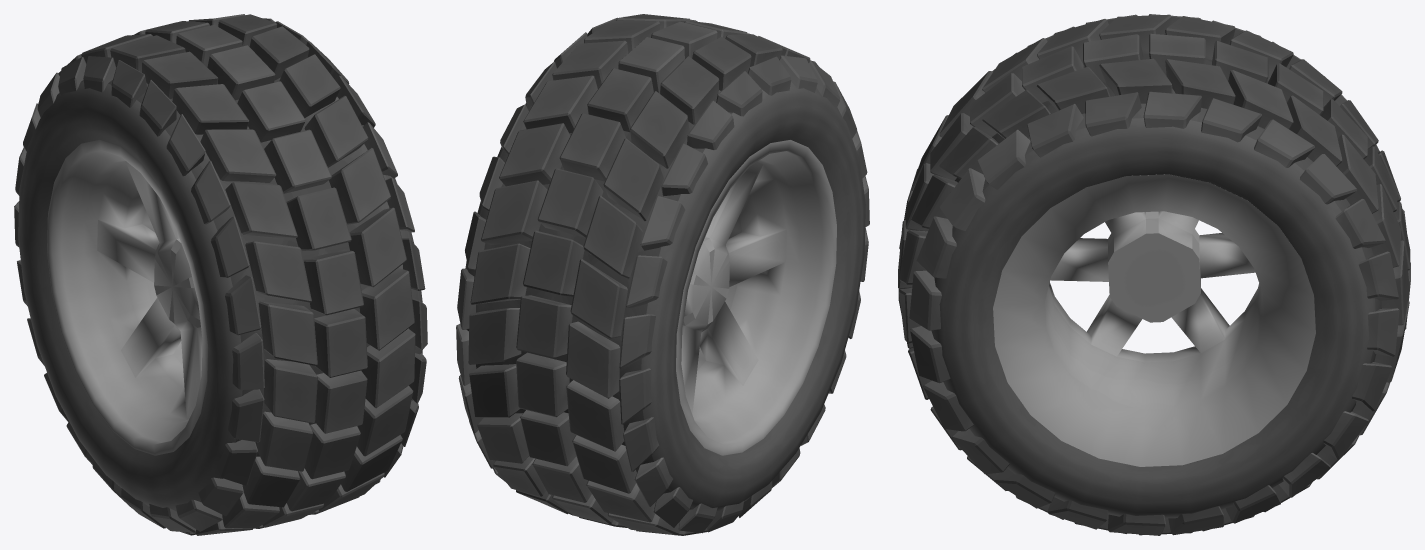
Rendered from LK4_wheel.obj.
3 views of the same model, side by side, from view 1: azimuth 30°, elevation 25°; view 2: azimuth 150°, elevation 25°; view 3: azimuth 270°, elevation 25° (orthographic).
Bounding box in the file's own units: 0.3815 × 0.8345 × 0.8344.
1 material, 1 textured.
